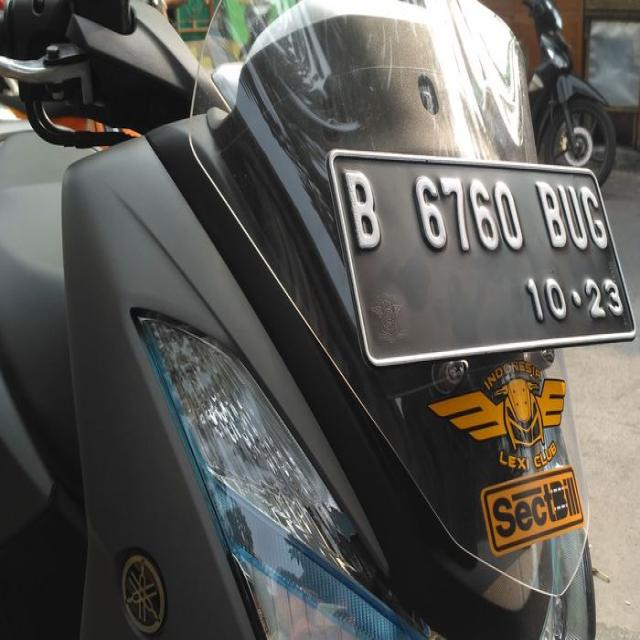plate: (333, 147, 630, 338)
